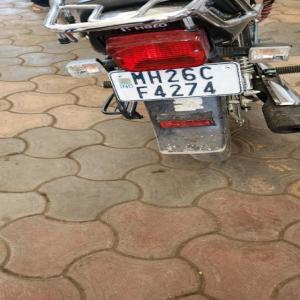Plate: (114, 62, 237, 102)
